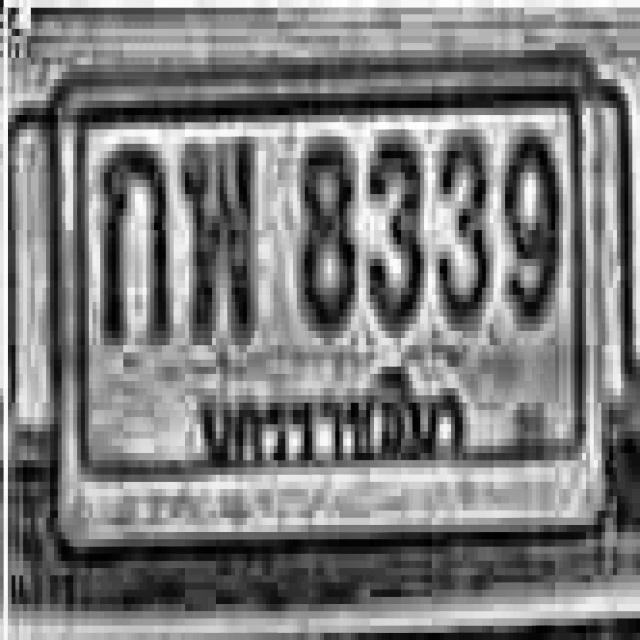license-plate: (52, 51, 607, 555)
